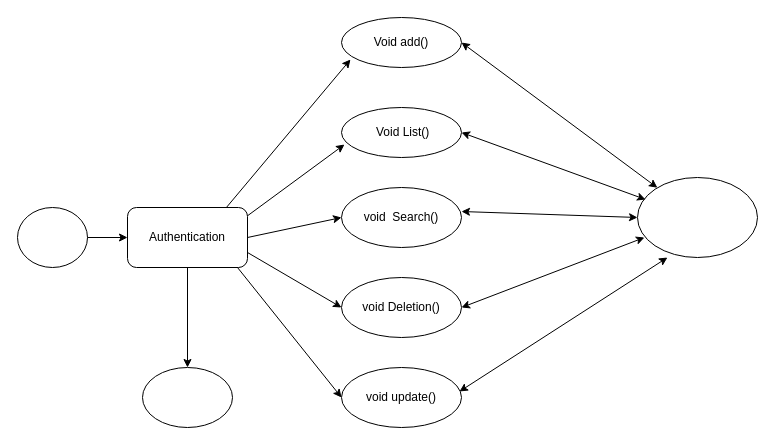
Image size: 775x445. Some labels were removed from this diagram. Here are the shapes that lost their labels. From the top down, the centre of each, then its label:
At [52,237]: "start".
At [697,217]: "File I/O And Strorage".
At [187,397]: "Exit()".
